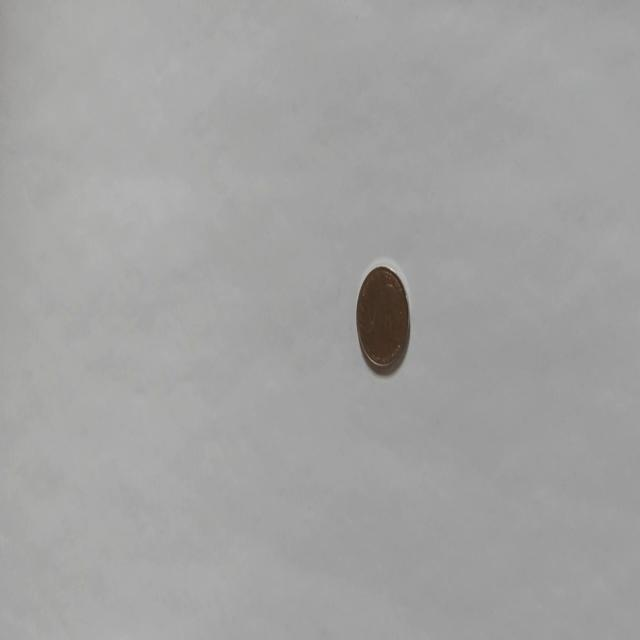seribu rupiah koin: (354, 258, 412, 374)
